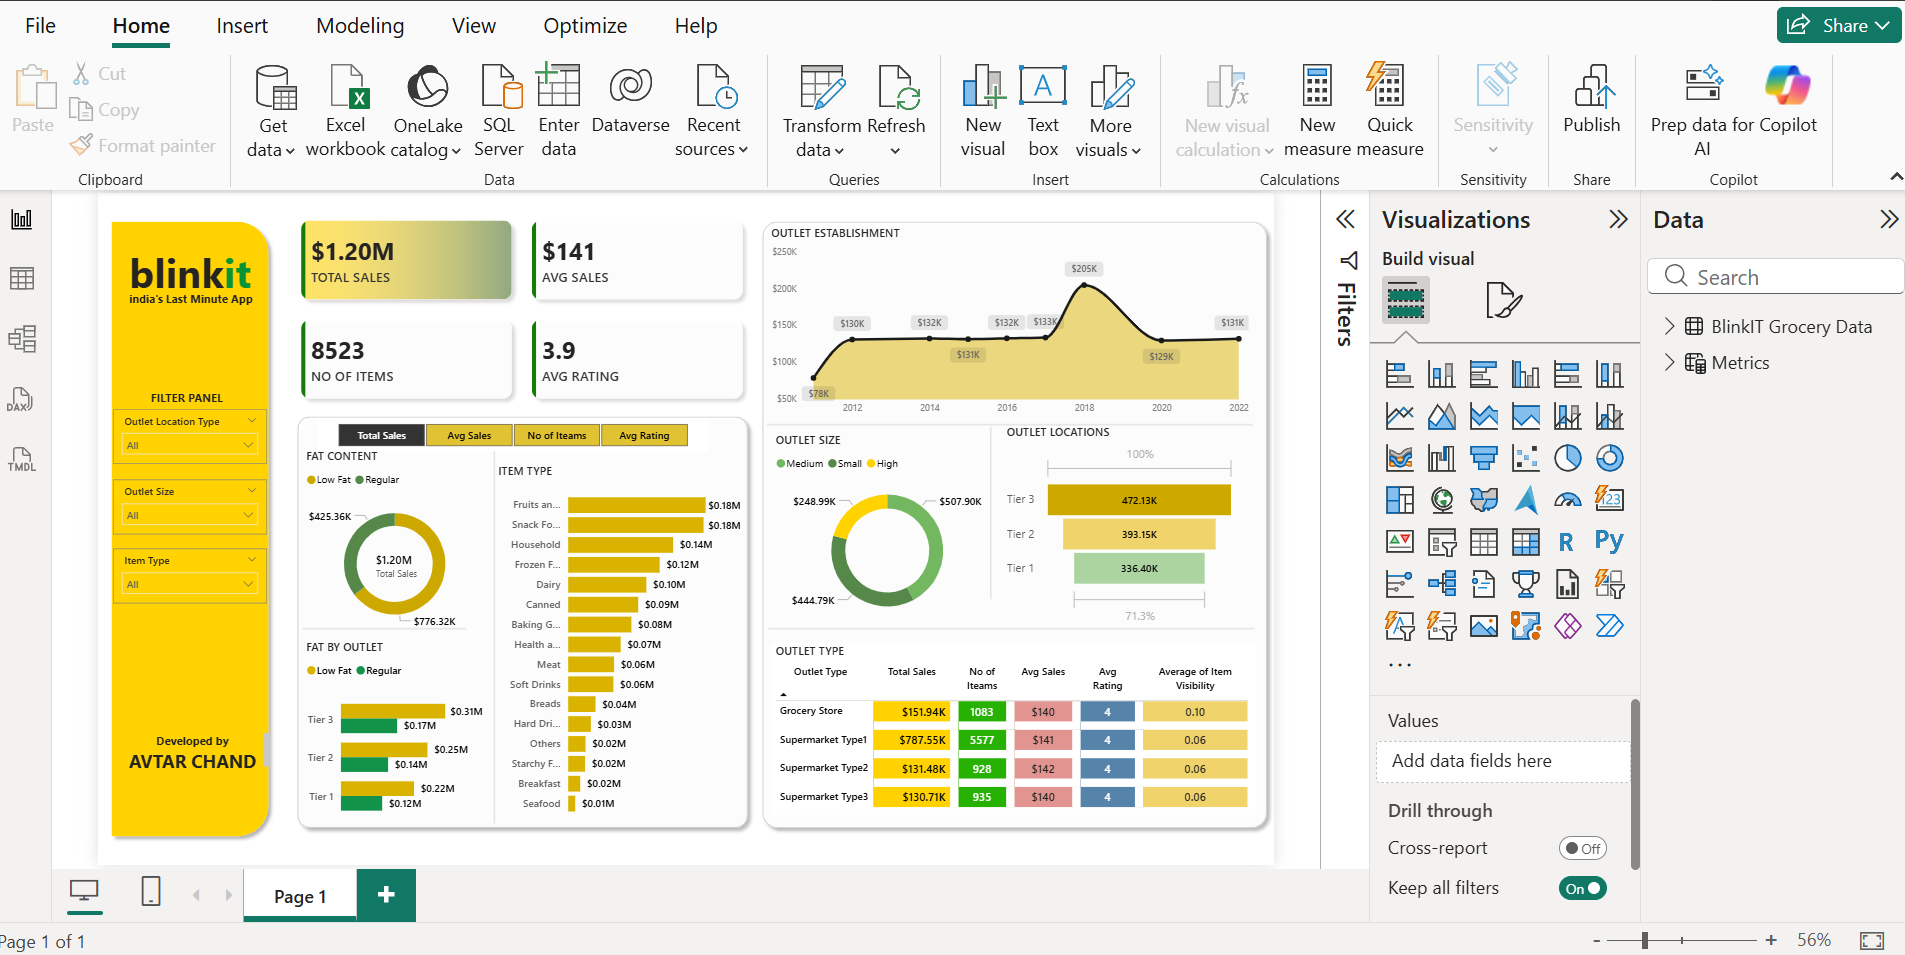

This screenshot's page, from the dashboard's own definition file:
{"tool":"powerbi","page":{"name":"Page 1","canvas":[1400,800],"ordinal":0},"visuals":[{"type":"shape","box":[6.7,25,205,750],"z":0},{"type":"textbox","box":[32,56,170,76],"z":1000},{"type":"textbox","box":[32,110,168,29],"z":2000},{"type":"cardVisual","fields":{"Data":["BlinkIT Grocery Data.Total Sales","BlinkIT Grocery Data.Avg Sales","BlinkIT Grocery Data.No of Iteams","BlinkIT Grocery Data.Avg Rating"]},"box":[211.7,3.3,585,270],"z":3000},{"type":"shape","box":[227.7,256.9,553.8,507.7],"z":4000},{"type":"donutChart","title":"FAT CONTENT","fields":{"Y":["BlinkIT Grocery Data.Total Sales"],"Category":["BlinkIT Grocery Data.Item Fat Content"]},"box":[243.1,303.1,220,229.2],"z":5000},{"type":"slicer","fields":{"Values":["Metrics.Metrics"]},"box":[260,268.3,465,40],"z":6000},{"type":"cardVisual","fields":{"Data":["BlinkIT Grocery Data.Total Sales"]},"box":[301.5,406.2,120,76.9],"z":7000},{"type":"clusteredBarChart","title":"FAT BY OUTLET","fields":{"Y":["BlinkIT Grocery Data.Total Sales"],"Category":["BlinkIT Grocery Data.Outlet Location Type"],"Series":["BlinkIT Grocery Data.Item Fat Content"]},"box":[243.3,530,220,230],"z":8000},{"type":"shape","box":[243.1,507.7,195.4,23.1],"z":9000},{"type":"shape","box":[452.3,307.7,40,443.1],"z":10000},{"type":"barChart","title":"ITEM TYPE","fields":{"Y":["BlinkIT Grocery Data.Total Sales"],"Category":["BlinkIT Grocery Data.Item Type"]},"box":[472.3,321.5,298.5,429.2],"z":11000},{"type":"shape","box":[781.7,25,618.3,740],"z":12000},{"type":"lineChart","title":"OUTLET ESTABLISHMENT","fields":{"Y":["BlinkIT Grocery Data.Total Sales"],"Category":["BlinkIT Grocery Data.Outlet Establishment Year"]},"box":[796.7,38.3,578.3,235],"z":13000},{"type":"shape","box":[796.7,261.7,578.3,26.7],"z":14000},{"type":"donutChart","title":"OUTLET SIZE","fields":{"Y":["BlinkIT Grocery Data.Total Sales"],"Category":["BlinkIT Grocery Data.Outlet Size"]},"box":[801.7,283.3,275,236.7],"z":15000},{"type":"shape","box":[1043.3,278.3,40,205],"z":16000},{"type":"funnel","title":"OUTLET LOCATIONS","fields":{"Y":["Sum(BlinkIT Grocery Data.Sales)"],"Category":["BlinkIT Grocery Data.Outlet Location Type"]},"box":[1076.7,275,281.7,243.3],"z":17000},{"type":"shape","box":[798.3,505,578.3,26.7],"z":18000},{"type":"pivotTable","title":"OUTLET TYPE","fields":{"Rows":["BlinkIT Grocery Data.Outlet Type"],"Values":["BlinkIT Grocery Data.Total Sales","BlinkIT Grocery Data.No of Iteams","BlinkIT Grocery Data.Avg Sales","BlinkIT Grocery Data.Avg Rating","Avg(BlinkIT Grocery Data.Item Visibility)"]},"box":[801.7,535,576.7,205],"z":19000},{"type":"slicer","fields":{"Values":["BlinkIT Grocery Data.Outlet Location Type"]},"box":[18.3,256.7,183.3,65],"z":20000},{"type":"slicer","fields":{"Values":["BlinkIT Grocery Data.Outlet Size"]},"box":[18.3,341.7,183.3,65],"z":21000},{"type":"slicer","fields":{"Values":["BlinkIT Grocery Data.Item Type"]},"box":[18.3,423.3,183.3,65],"z":22000},{"type":"textbox","box":[13.3,228.3,186.7,40],"z":23000},{"type":"textbox","box":[23.3,638.3,186.7,53.3],"z":24000}]}

Visuals, with their boxes on the page's 1400x800 design canvas (x1, y1, x2, y2). These are canvas units, not pixel positions in the 1905x955 screenshot, which may show the page scaled, cropped or inside an application window:
shape: [x1=7, y1=25, x2=212, y2=775]
textbox: [x1=32, y1=56, x2=202, y2=132]
textbox: [x1=32, y1=110, x2=200, y2=139]
cardVisual - BlinkIT Grocery Data.Total Sales x BlinkIT Grocery Data.Avg Sales: [x1=212, y1=3, x2=797, y2=273]
shape: [x1=228, y1=257, x2=782, y2=765]
"FAT CONTENT" donutChart: [x1=243, y1=303, x2=463, y2=532]
slicer - Metrics.Metrics: [x1=260, y1=268, x2=725, y2=308]
cardVisual - BlinkIT Grocery Data.Total Sales: [x1=302, y1=406, x2=422, y2=483]
"FAT BY OUTLET" clusteredBarChart: [x1=243, y1=530, x2=463, y2=760]
shape: [x1=243, y1=508, x2=438, y2=531]
shape: [x1=452, y1=308, x2=492, y2=751]
"ITEM TYPE" barChart: [x1=472, y1=322, x2=771, y2=751]
shape: [x1=782, y1=25, x2=1400, y2=765]
"OUTLET ESTABLISHMENT" lineChart: [x1=797, y1=38, x2=1375, y2=273]
shape: [x1=797, y1=262, x2=1375, y2=288]
"OUTLET SIZE" donutChart: [x1=802, y1=283, x2=1077, y2=520]
shape: [x1=1043, y1=278, x2=1083, y2=483]
"OUTLET LOCATIONS" funnel: [x1=1077, y1=275, x2=1358, y2=518]
shape: [x1=798, y1=505, x2=1377, y2=532]
"OUTLET TYPE" pivotTable: [x1=802, y1=535, x2=1378, y2=740]
slicer - BlinkIT Grocery Data.Outlet Location Type: [x1=18, y1=257, x2=202, y2=322]
slicer - BlinkIT Grocery Data.Outlet Size: [x1=18, y1=342, x2=202, y2=407]
slicer - BlinkIT Grocery Data.Item Type: [x1=18, y1=423, x2=202, y2=488]
textbox: [x1=13, y1=228, x2=200, y2=268]
textbox: [x1=23, y1=638, x2=210, y2=692]
